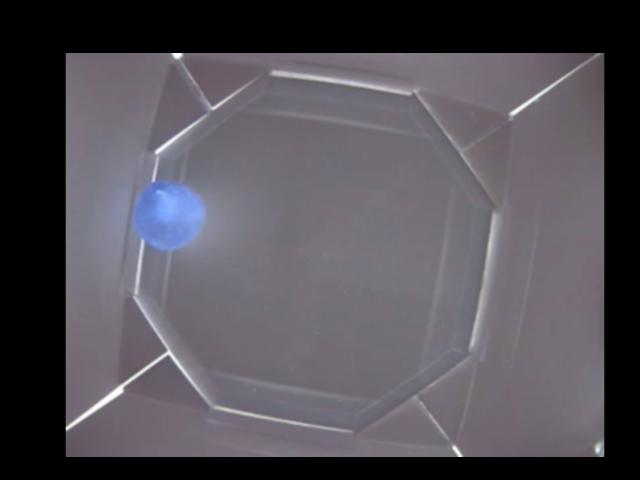Potato: (132, 176, 204, 245)
